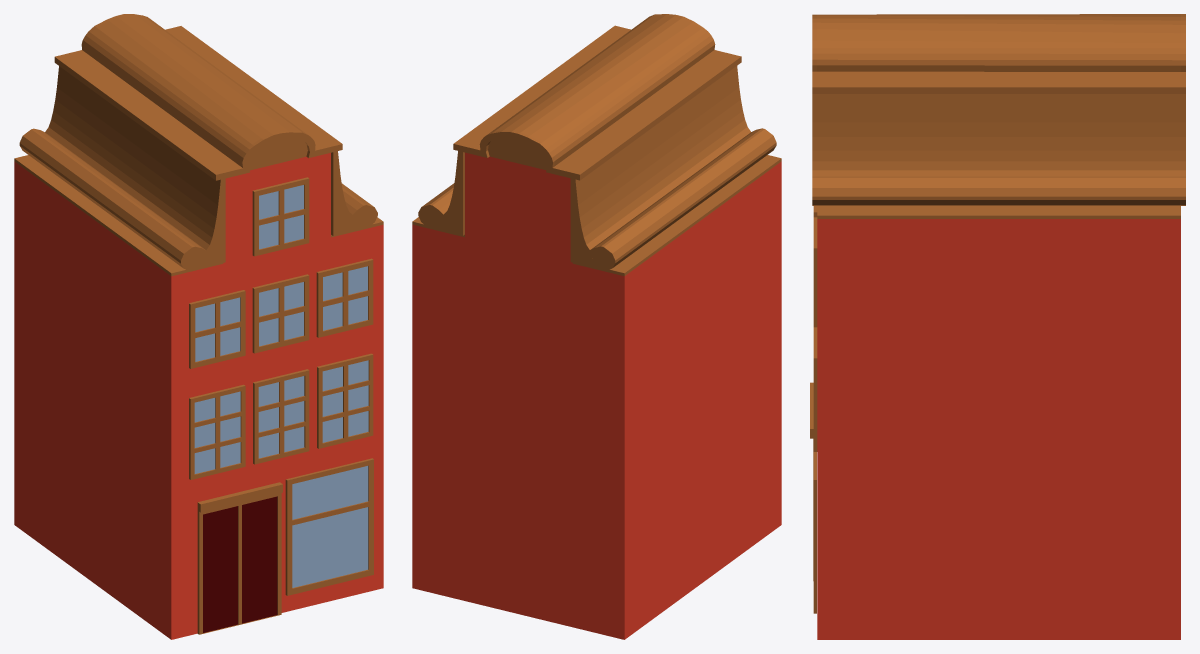
Rendered from amsterdamhuis1TEXTURED.fbx.
The picture shows the model from 3 angles, left to right: view 1: azimuth 30°, elevation 25°; view 2: azimuth 150°, elevation 25°; view 3: azimuth 270°, elevation 25°; orthographic projection. The views are drawn at different scales.
Parts seen in each view (by area): view 1: Plane.011; view 2: Plane.011; view 3: Plane.011.
Part boxes in pixels (bbox=[...]): Plane.011: bbox=[14, 14, 383, 639]; Plane.011: bbox=[412, 14, 781, 639]; Plane.011: bbox=[810, 14, 1185, 639].
Size of the model in its own units: 183 by 397 by 242.
